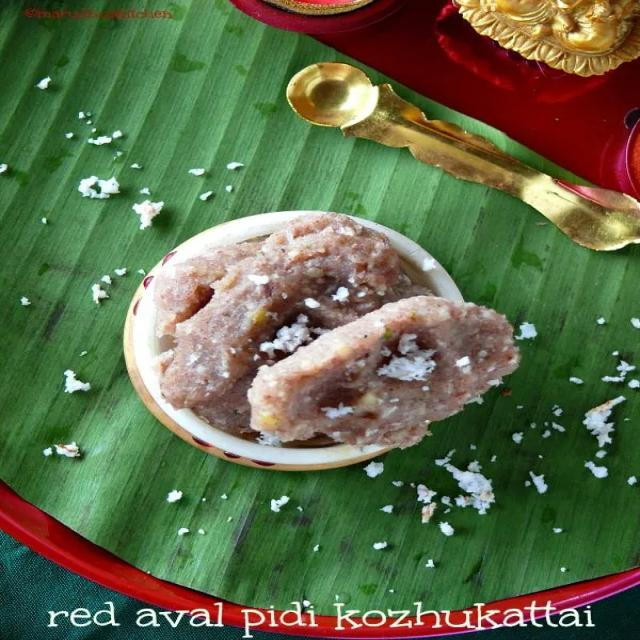pidi kolukattai: (94, 211, 540, 462)
